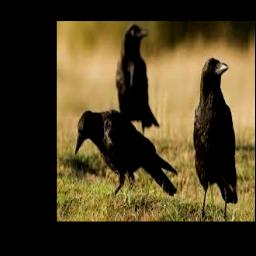Crow: (74, 109, 178, 197), (193, 57, 237, 220), (116, 24, 160, 137)
